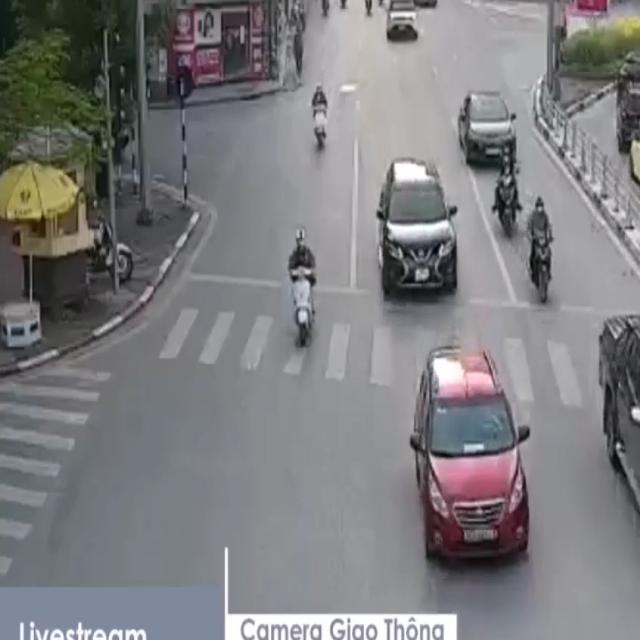car: (411, 345, 530, 559), (380, 160, 461, 294), (597, 305, 640, 517), (460, 90, 518, 170), (383, 1, 418, 46)
motorbike: (283, 224, 323, 350), (525, 194, 556, 308), (490, 145, 519, 240), (310, 84, 332, 154)
